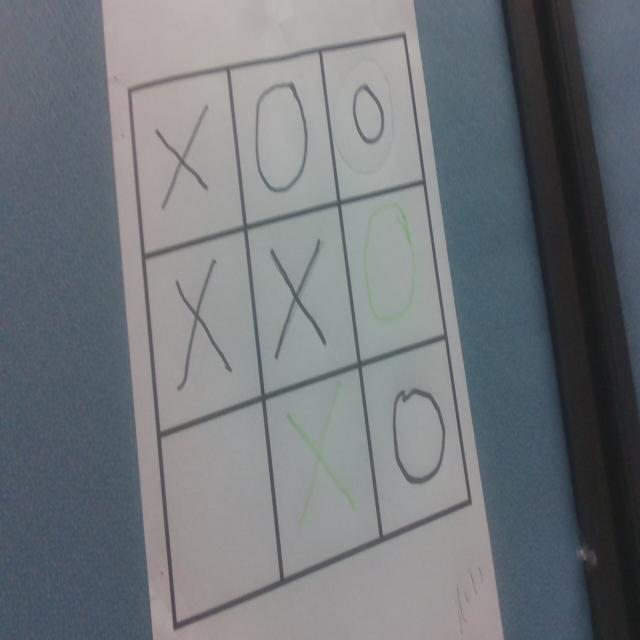null: (160, 403, 282, 626)
o: (363, 192, 415, 324), (255, 79, 308, 192), (393, 385, 446, 486), (351, 84, 387, 146)
table: (137, 40, 480, 639)
x: (287, 380, 354, 530), (177, 263, 230, 386), (273, 246, 325, 355), (158, 114, 209, 207)
